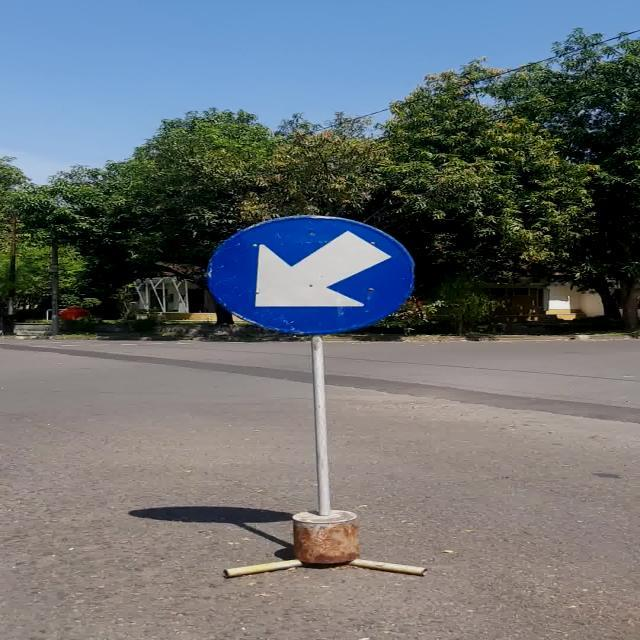Lajur Kiri: (208, 215, 414, 334)
